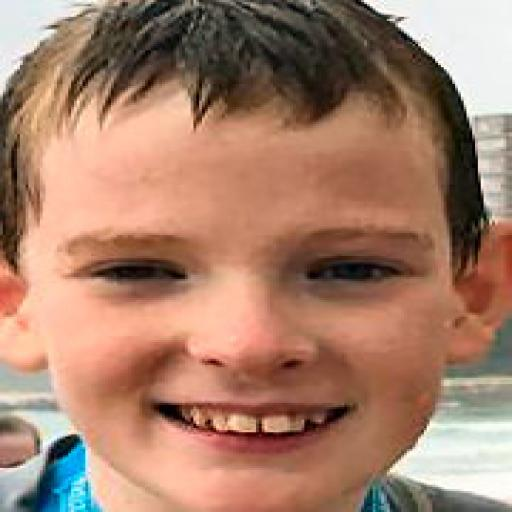Autism: (22, 50, 512, 478)
